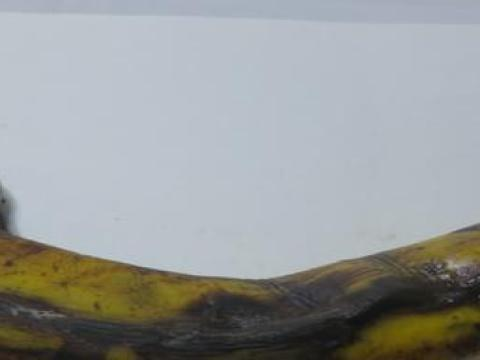overripe: (0, 172, 479, 359)
